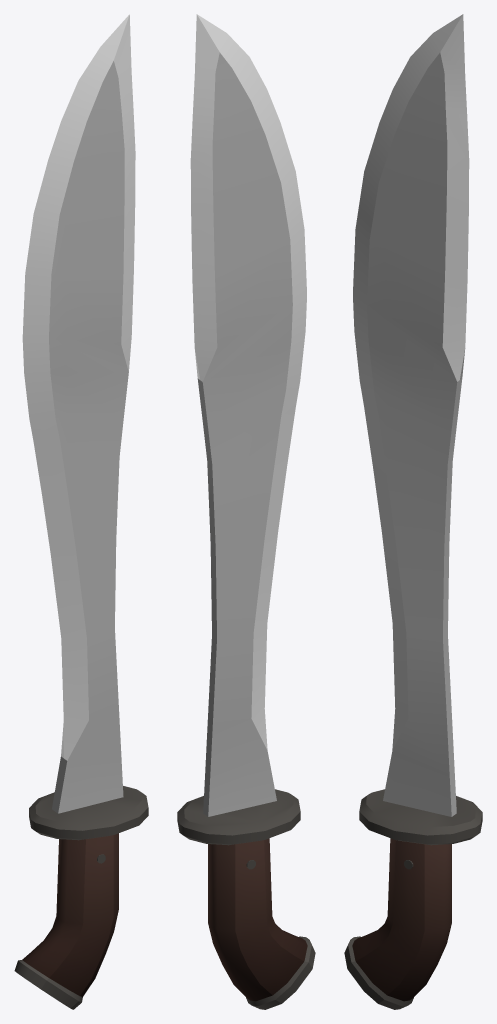
The model's file is SM_Sword13_Itak_3Silver.fbx.
3 renders of one model, left to right at view 1: azimuth 30°, elevation 25°; view 2: azimuth 210°, elevation 25°; view 3: azimuth 330°, elevation 25°, orthographic. The views are drawn at different scales.
Visible parts, largest first — view 1: Cube.418, Cylinder.596, Cylinder.595; view 2: Cube.418, Cylinder.596, Cylinder.595; view 3: Cube.418, Cylinder.596, Cylinder.595.
Part boxes in pixels (x1=…): Cube.418: x1=22, y1=14, x2=135, y2=813; Cylinder.596: x1=14, y1=833, x2=118, y2=1009; Cylinder.595: x1=29, y1=786, x2=148, y2=840; Cube.418: x1=190, y1=14, x2=306, y2=816; Cylinder.596: x1=208, y1=838, x2=315, y2=1009; Cylinder.595: x1=177, y1=789, x2=300, y2=845; Cube.418: x1=353, y1=14, x2=469, y2=816; Cylinder.596: x1=344, y1=838, x2=451, y2=1009; Cylinder.595: x1=359, y1=789, x2=482, y2=845.
Bounding box in the file's own units: 0.0791 × 0.5861 × 0.0554.
